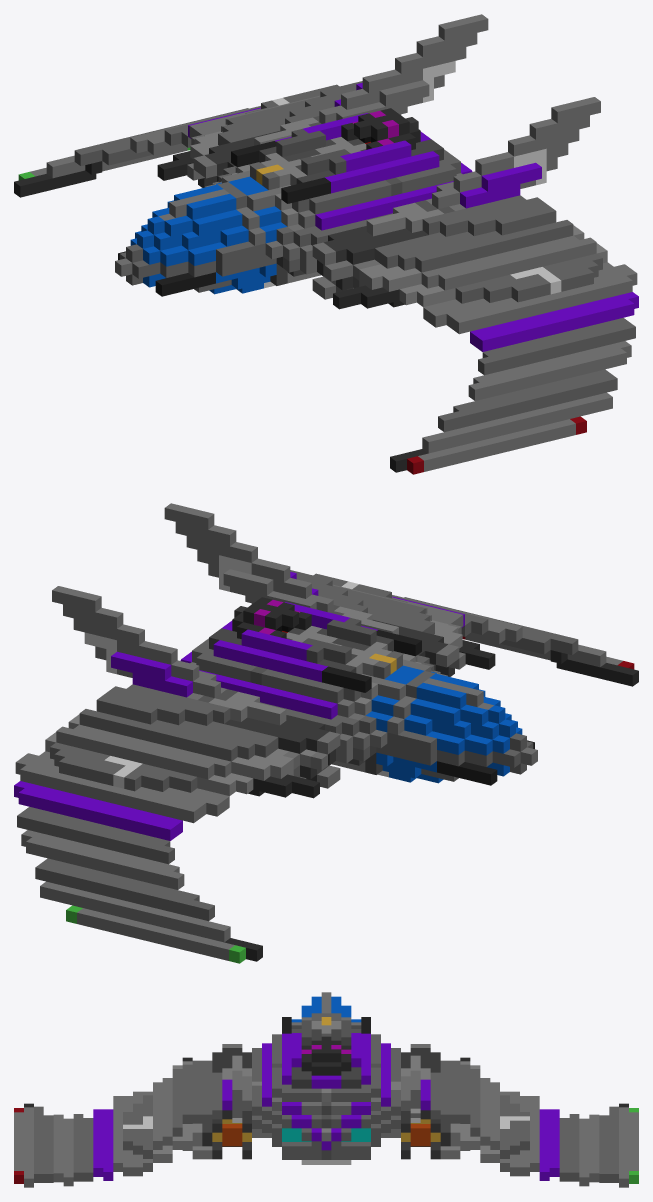
Rendered from Ship1.fbx.
3 views of the same model, one above another, from view 1: azimuth 30°, elevation 25°; view 2: azimuth 150°, elevation 25°; view 3: azimuth 270°, elevation 25° (orthographic). The views are drawn at different scales.
Size of the model in its own units: 39 by 17 by 63.
